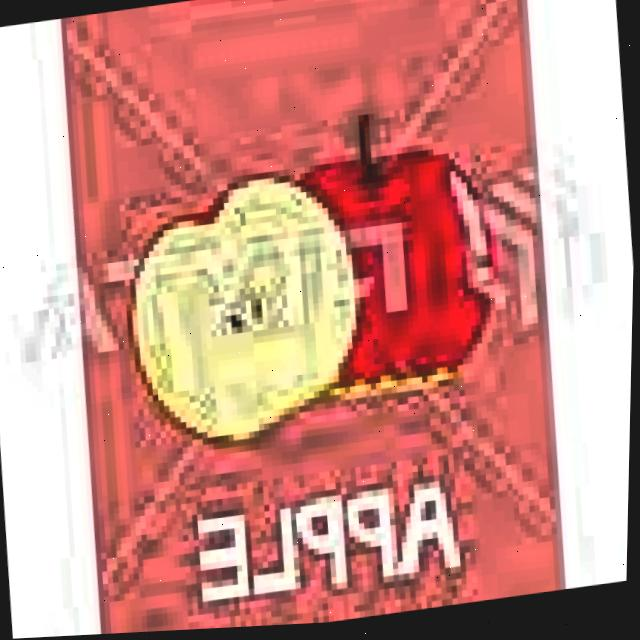metal: (34, 0, 595, 638)
